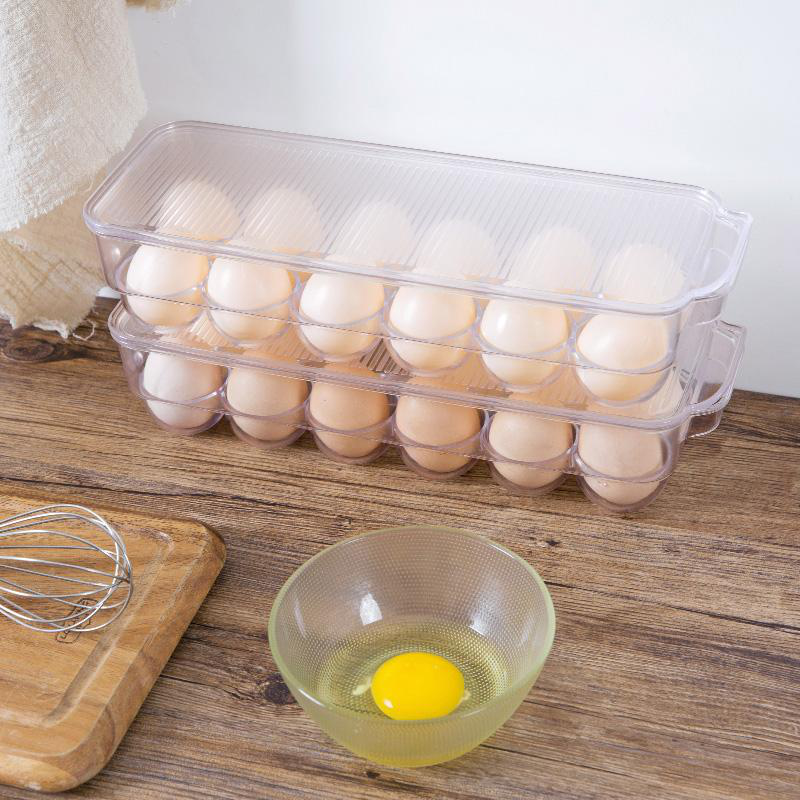egg: (128, 176, 701, 491)
